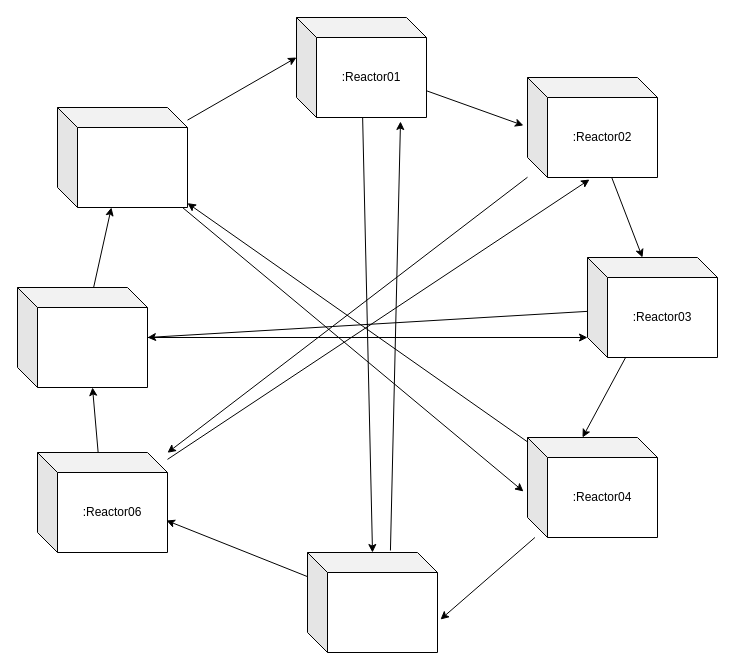
The diagram is 735 pixels wide and 670 high, and some of its shapes have lost their labels. The shapes that lost their labels are listed below. From the top down, each one's centre as x and y in pixels, then its label:
the point at 122,157: :Reactor08
the point at 82,337: :Reactor07
the point at 372,602: :Reactor05
